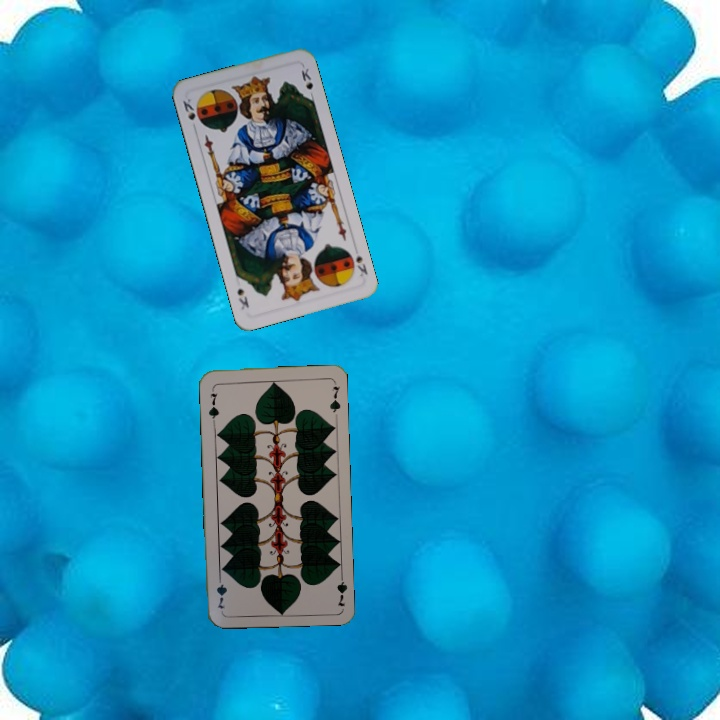G7: (204, 383, 221, 424), (333, 568, 349, 609)
SK: (179, 94, 199, 133), (352, 251, 370, 279)
